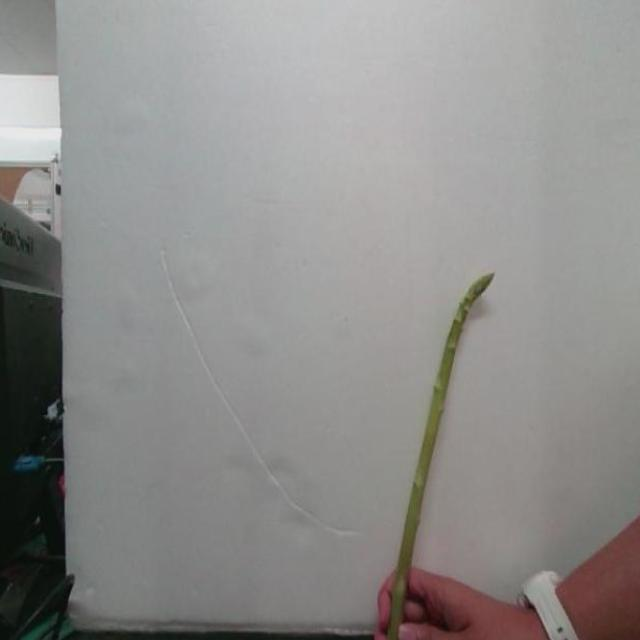aspargus: (384, 274, 494, 640)
